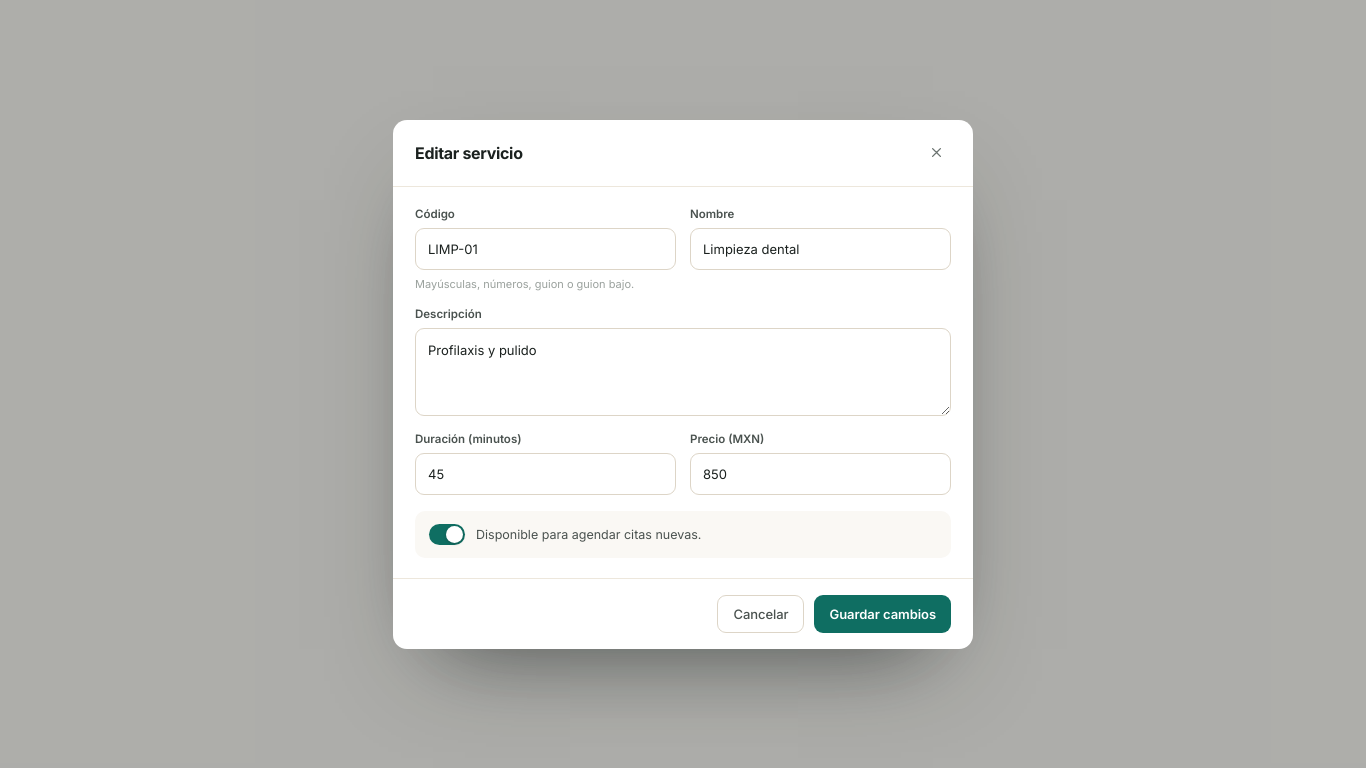
it: ServiceFormModal failures › maps server field errors back onto the offending input
The width and height of the screenshot is (1366, 768).
Click the button "Guardar cambios": [883, 614] box [814,594,951,632]
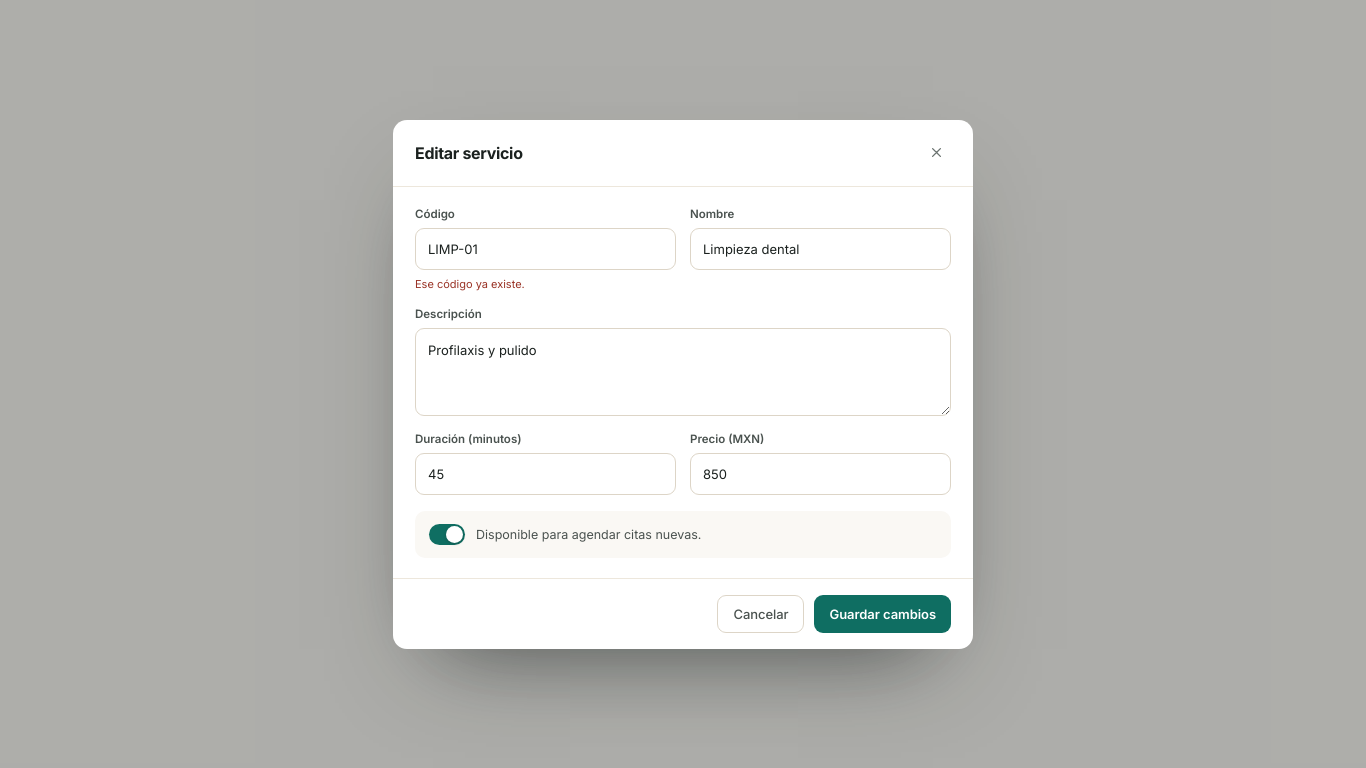
Check: the text "Ese código ya existe." is shown, box [415,276,525,290]
